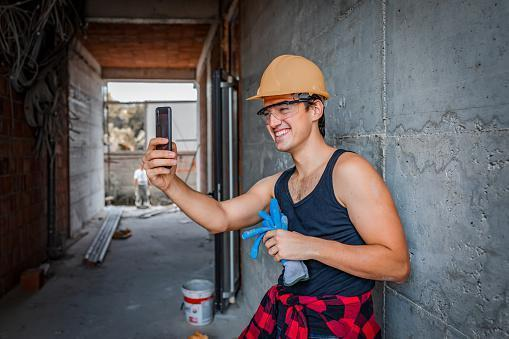helmet: (245, 53, 330, 103)
